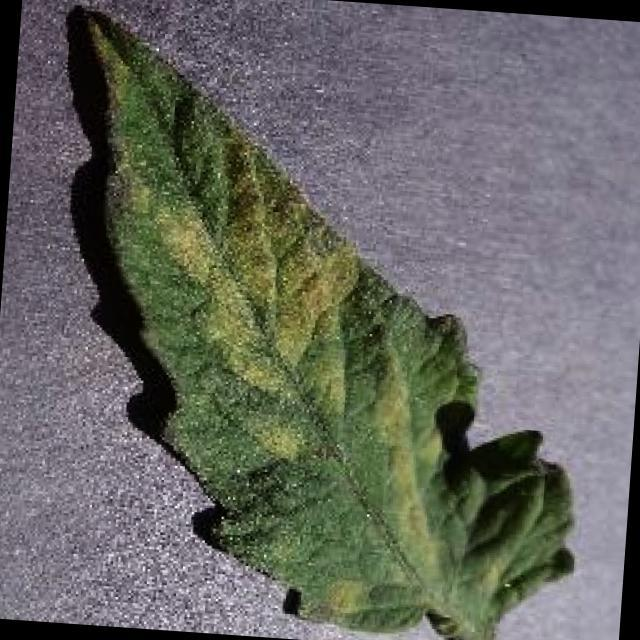Tomato mold leaf: (46, 5, 615, 640)
